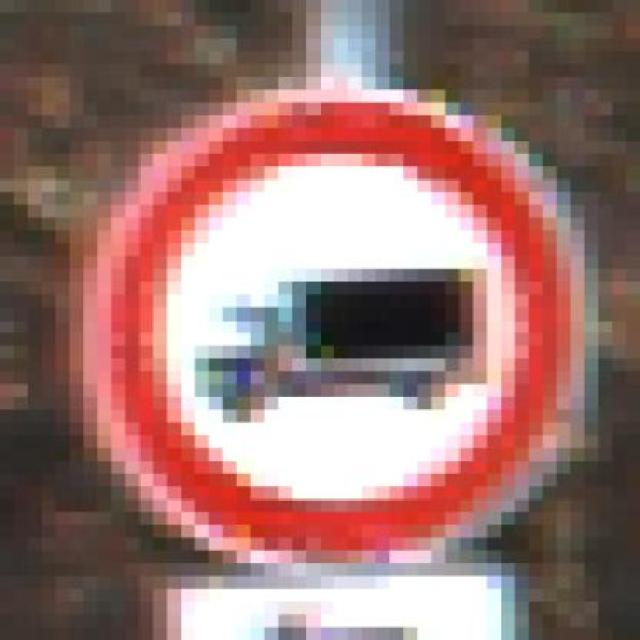Truck traffic is prohibited: (41, 51, 598, 589)
